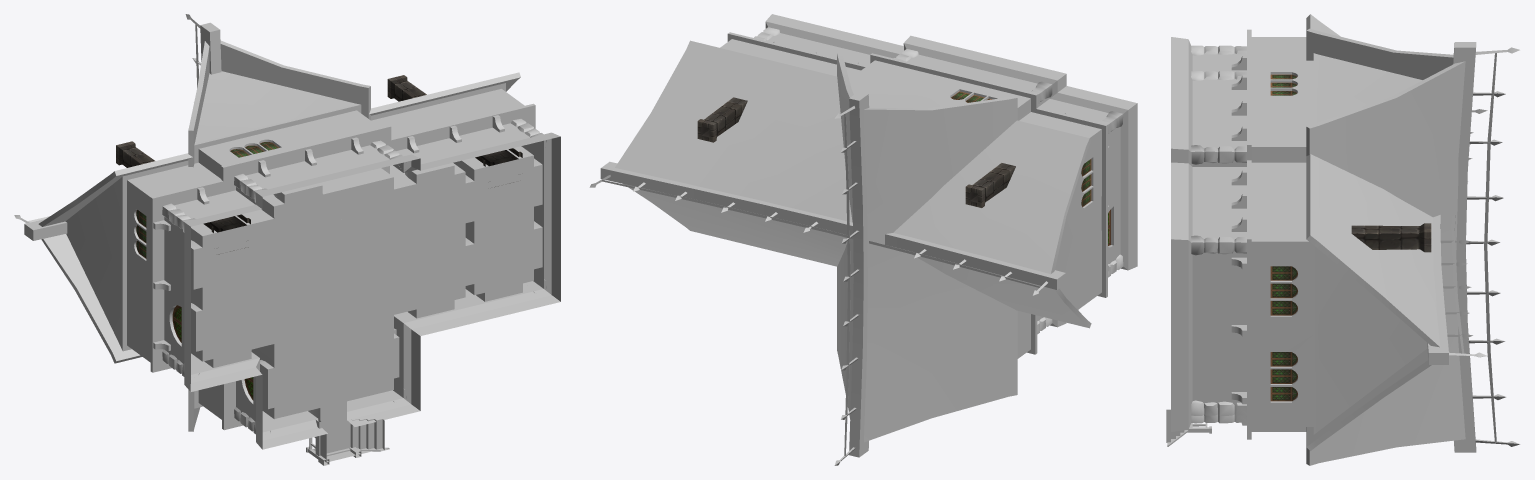
File: Tavern.fbx
3 renders of one model, left to right at view 1: azimuth 30°, elevation 25°; view 2: azimuth 150°, elevation 25°; view 3: azimuth 270°, elevation 25°, orthographic. The views are drawn at different scales.
Visible parts, largest first — view 1: Tavern_LOD0; view 2: Tavern_LOD0; view 3: Tavern_LOD0.
Boxes of the visible parts, bbox=[...] form: Tavern_LOD0: bbox=[14, 14, 560, 465]; Tavern_LOD0: bbox=[589, 14, 1137, 465]; Tavern_LOD0: bbox=[1166, 14, 1519, 465].
Size of what is drawn, in the model's own units: 31.67 by 23.67 by 18.76.
